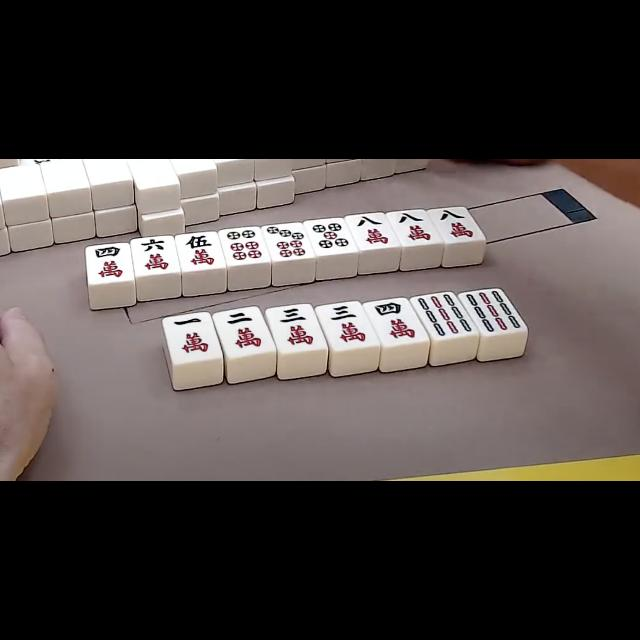b9: (467, 288, 521, 334), (419, 293, 468, 339)
c1: (168, 314, 216, 361)
c2: (218, 308, 266, 354)
c3: (272, 306, 320, 350), (325, 303, 371, 347)
c4: (369, 298, 421, 342), (86, 243, 130, 281)
c5: (177, 232, 223, 270)
c6: (133, 237, 175, 273)
c8: (394, 210, 436, 246), (434, 207, 478, 241), (352, 215, 392, 248)
d5: (309, 217, 353, 253)
d6: (224, 228, 264, 262)
d7: (265, 224, 311, 260)
